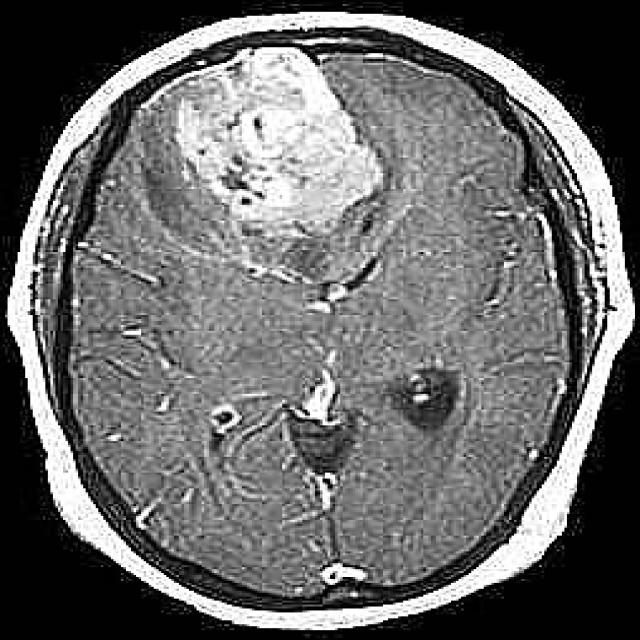Tumor-Cell: (165, 64, 402, 237)
